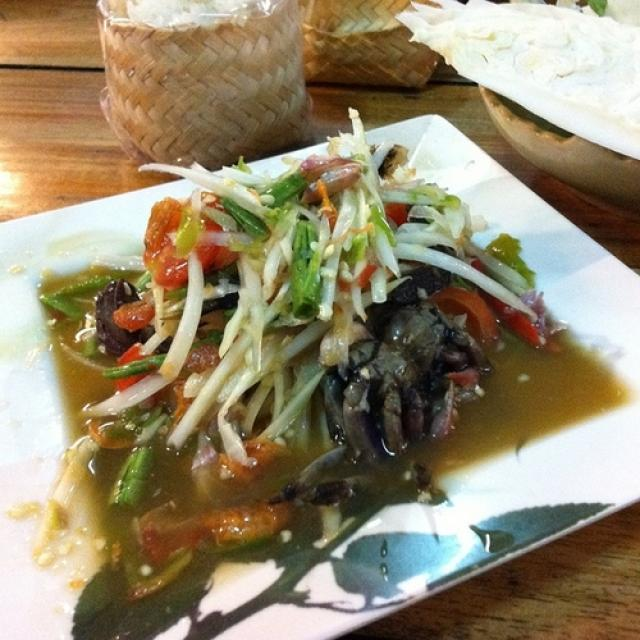蔬菜料理: (13, 72, 608, 626)
